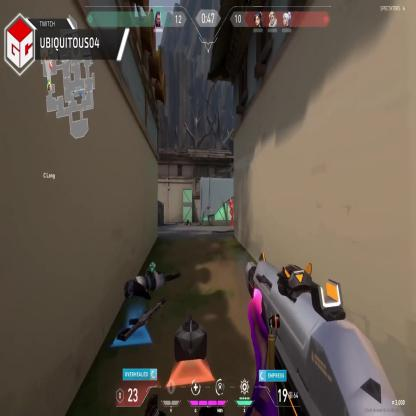enemy: (228, 199, 234, 228)
enemy_head: (230, 199, 232, 204)
